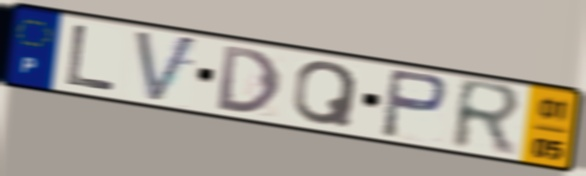D: (215, 43, 284, 116)
L: (62, 21, 120, 94)
P: (377, 66, 451, 142)
Q: (289, 59, 361, 130)
R: (448, 75, 527, 160)
V: (131, 27, 202, 107)
